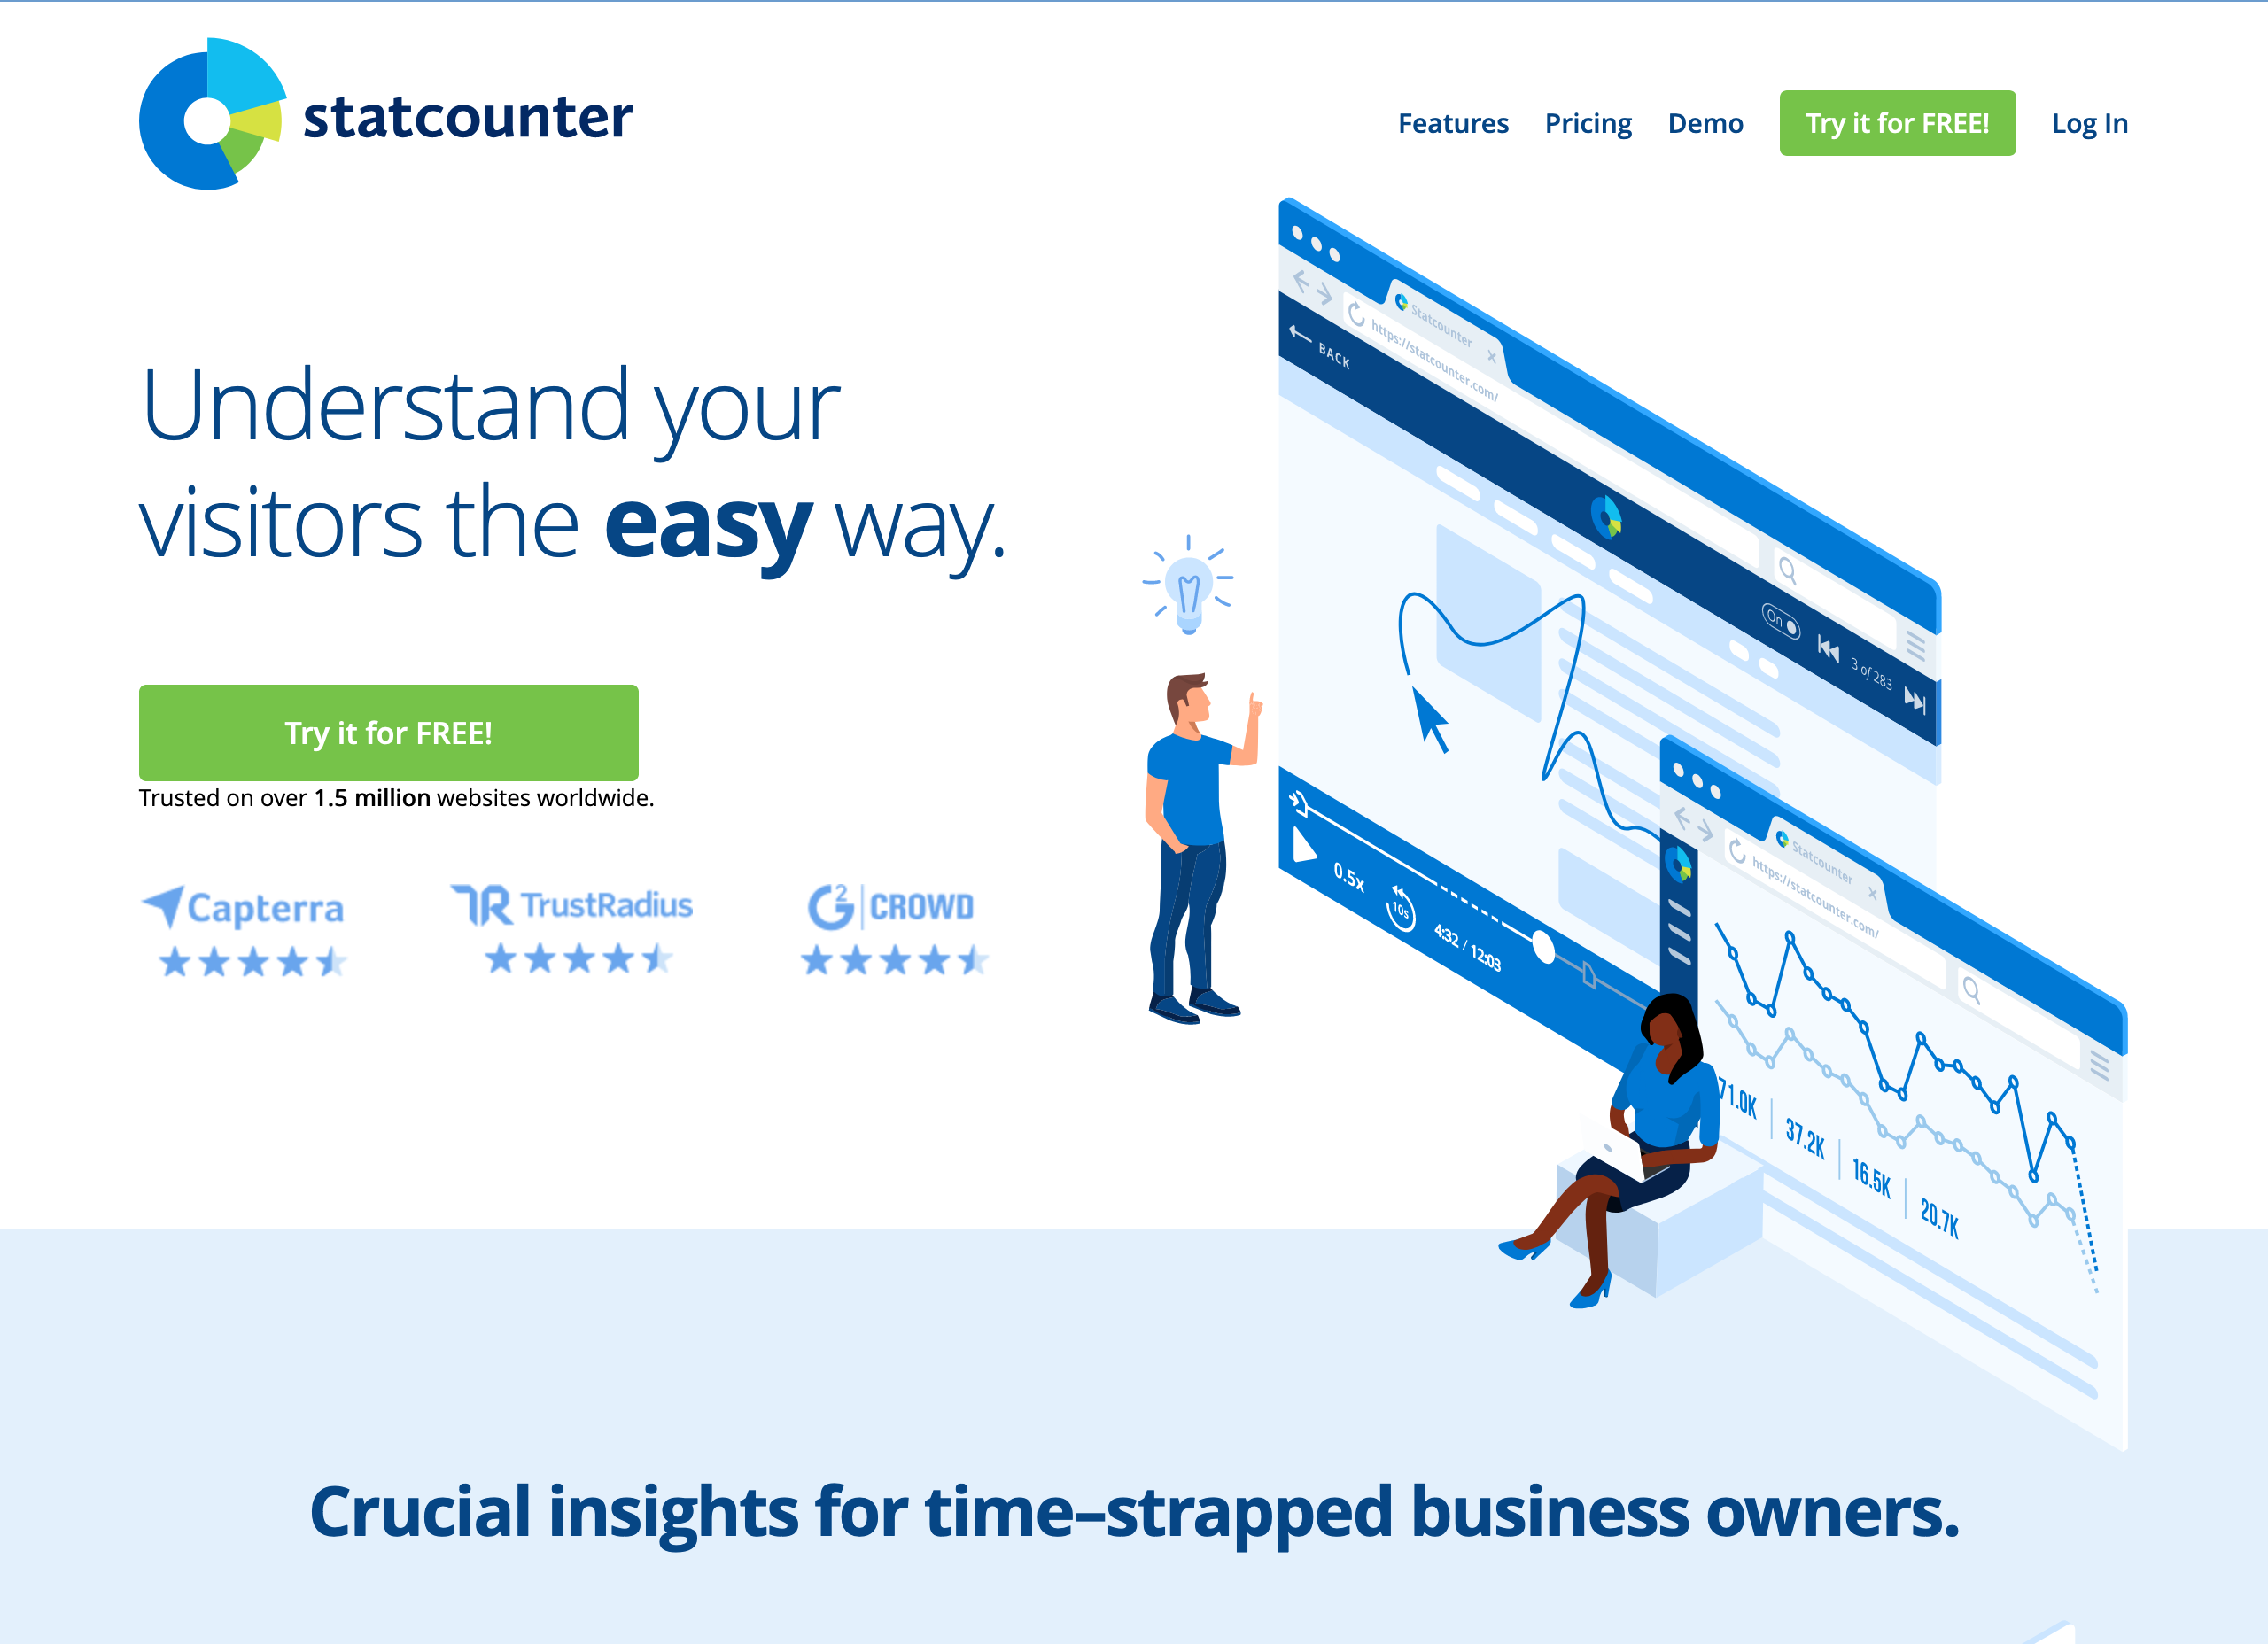Login: (2037, 97, 2134, 151)
